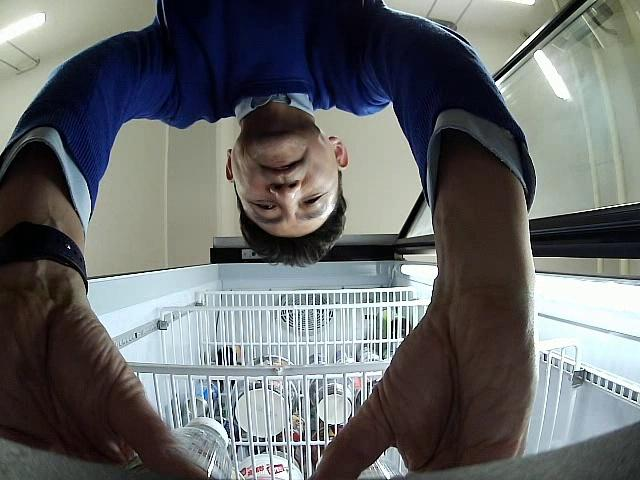00_hand: (307, 255, 536, 479), (2, 270, 213, 480)
18_trevi: (128, 416, 232, 478)
